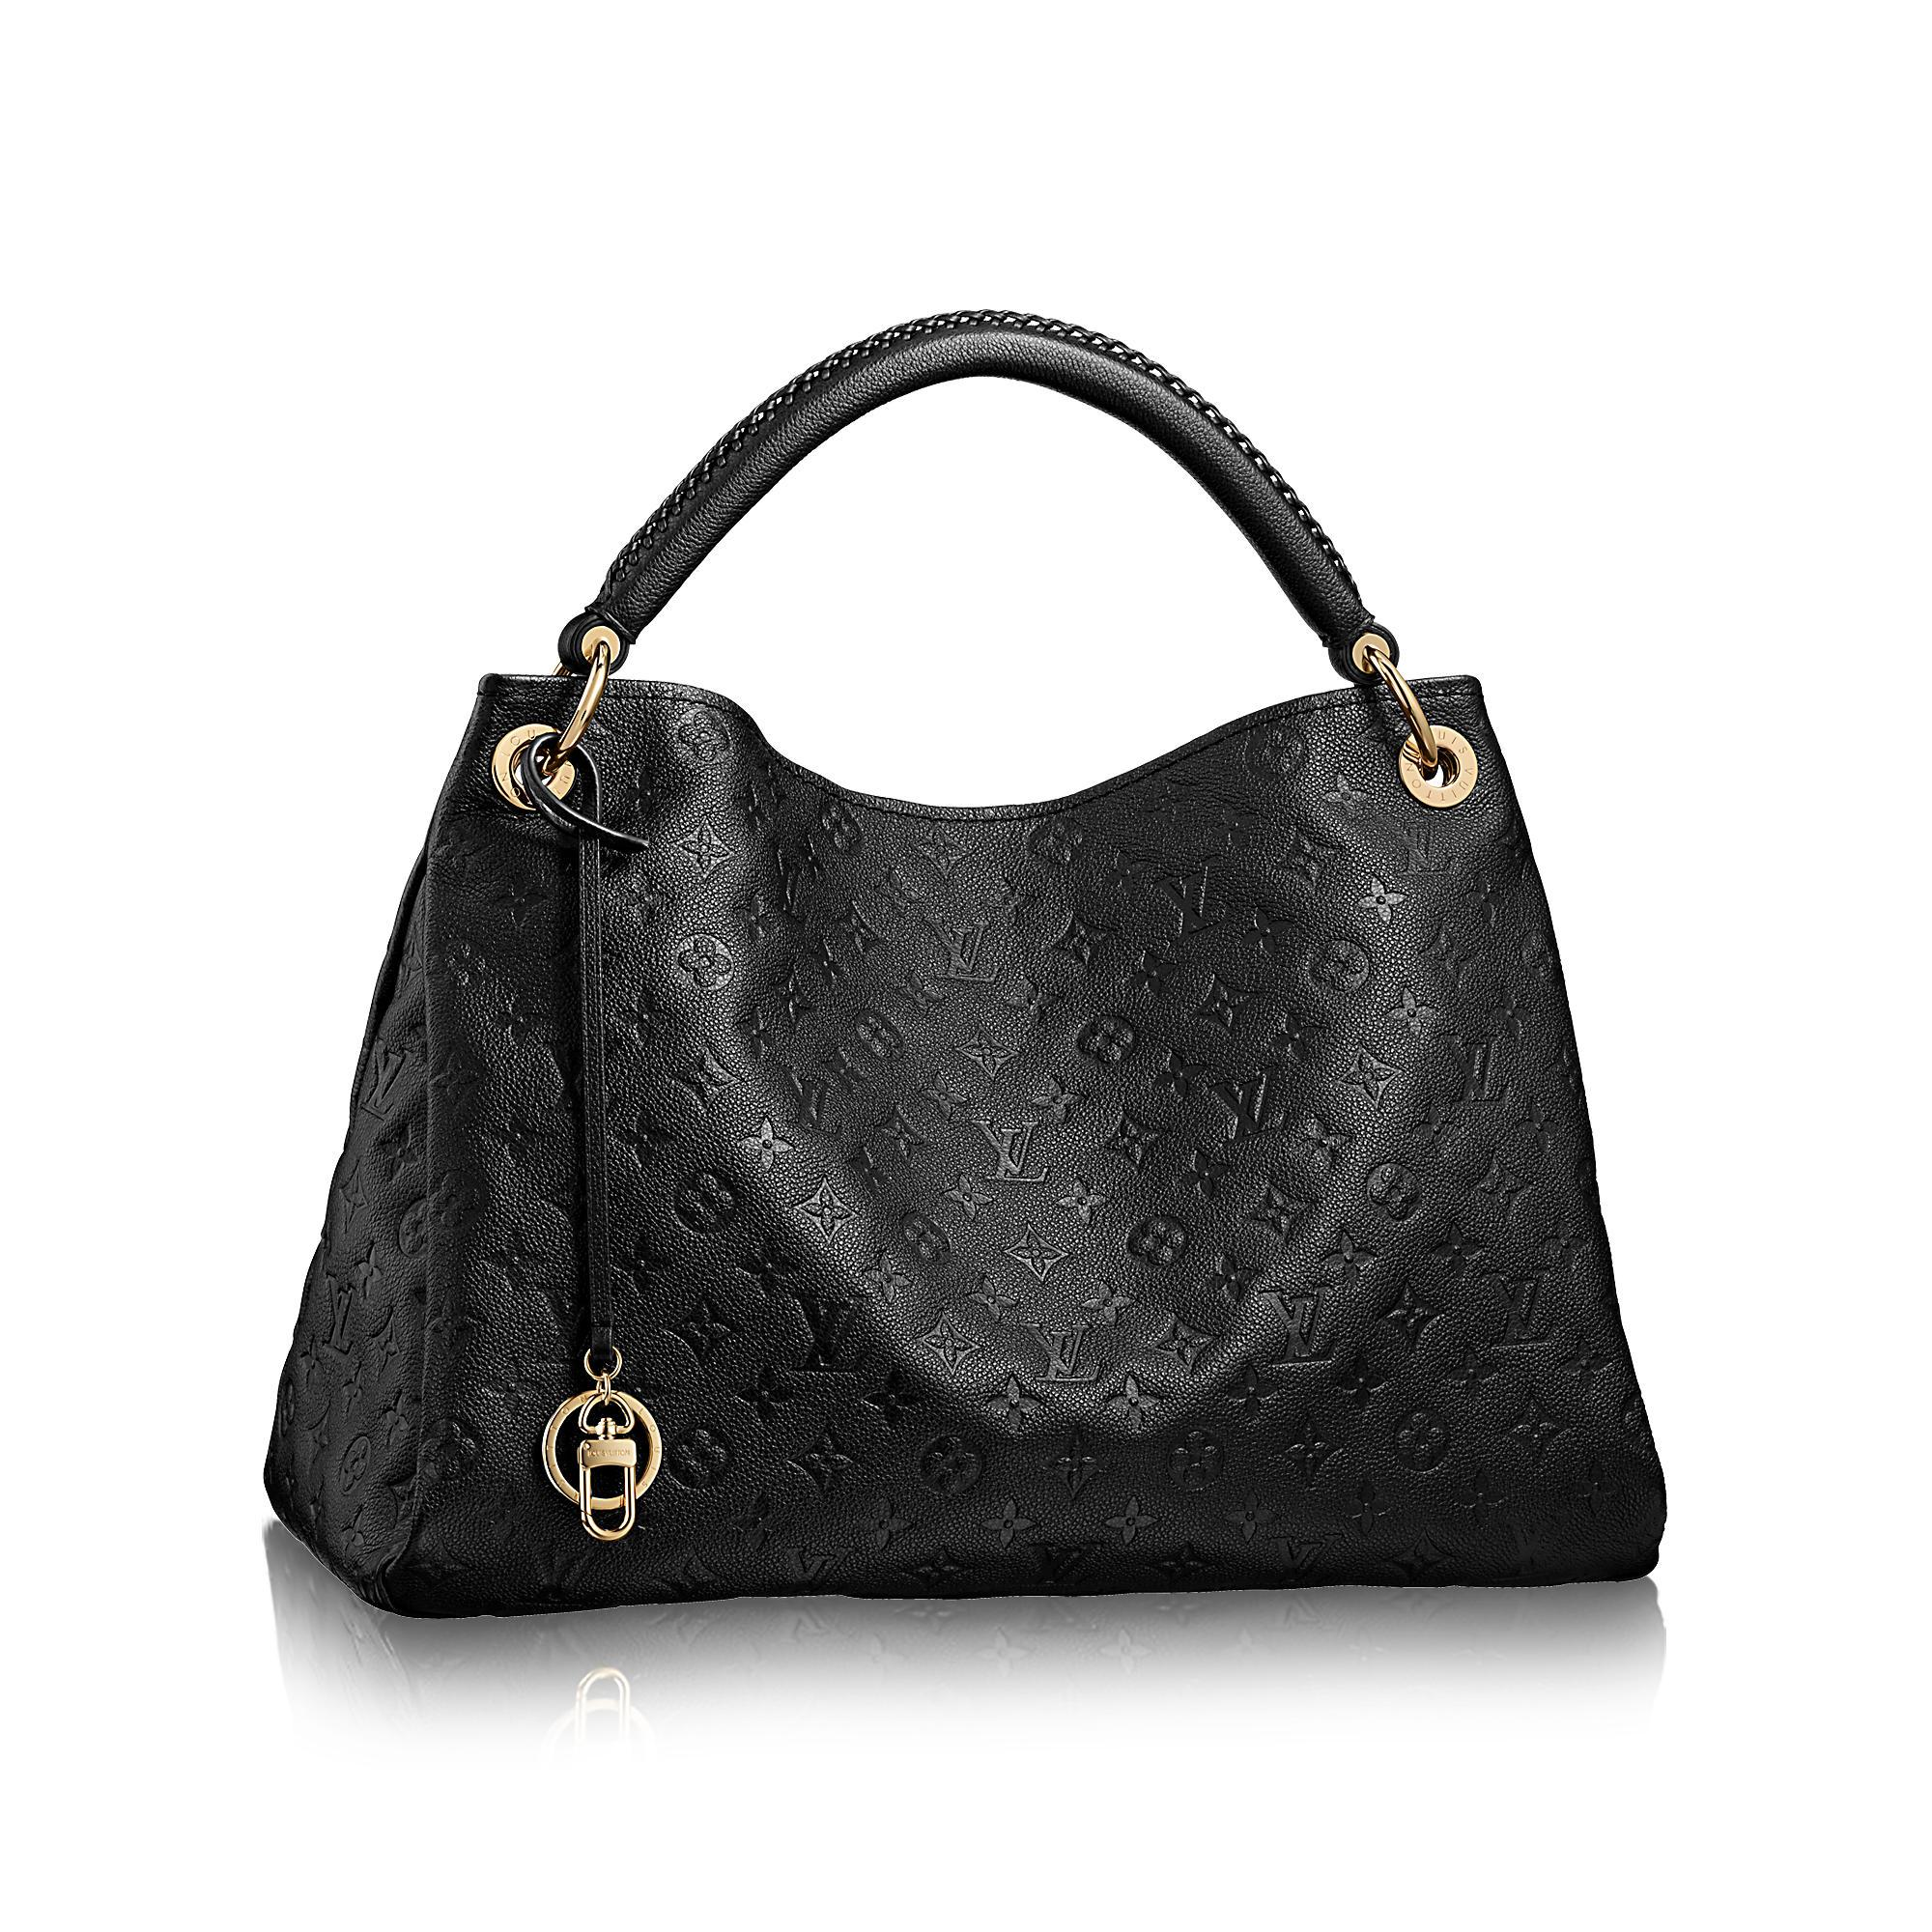LOUIS-VUITTON: (786, 1284, 878, 1378), (1161, 851, 1233, 939), (962, 1111, 1051, 1184), (1256, 1283, 1334, 1364), (1198, 1072, 1290, 1139), (1474, 1265, 1548, 1348), (918, 909, 1001, 984), (1431, 1028, 1509, 1106), (773, 1060, 846, 1143), (1017, 1316, 1100, 1385), (317, 1265, 361, 1361), (363, 1037, 410, 1123), (1392, 809, 1451, 878)
